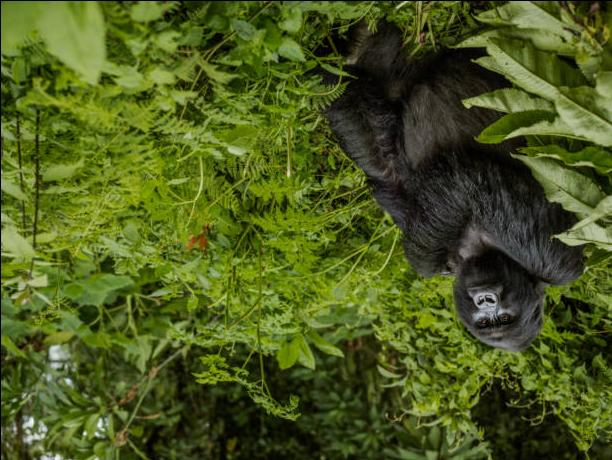goriile_montagne: (315, 19, 582, 365)
